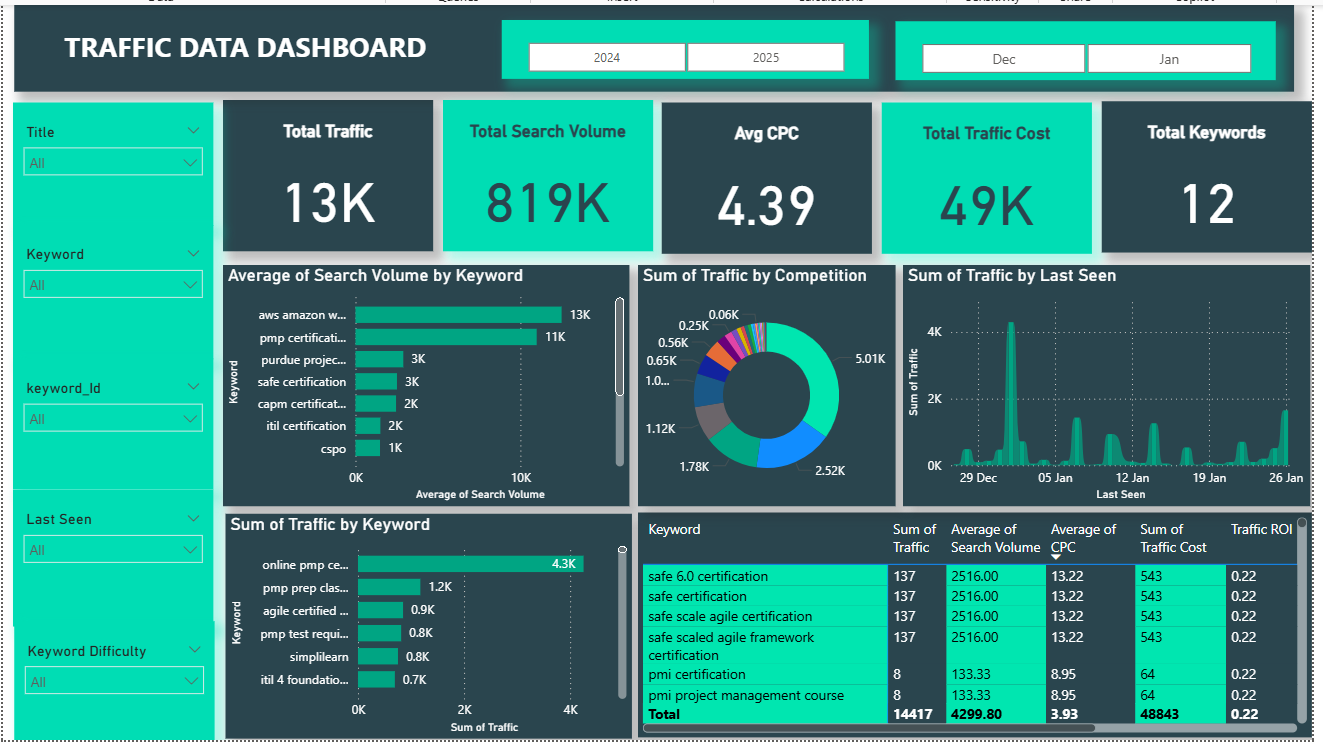

The page's visual inventory and layout, read from the dashboard file:
{"tool":"powerbi","page":{"name":"Page 1","canvas":[1280,720],"ordinal":0},"visuals":[{"type":"card","title":"Total Traffic","fields":{"Values":["Measures_Table.Total Traffic"]},"box":[215.2,92.9,205.4,148],"z":0},{"type":"textbox","box":[11.6,0,1252,84.8],"z":1000},{"type":"card","title":"Total Search Volume","fields":{"Values":["Measures_Table.Total Search Volume"]},"box":[430.4,92.9,205.4,148],"z":2000},{"type":"card","title":"Avg CPC","fields":{"Values":["Measures_Table.Avg CPC"]},"box":[644.4,95.4,205.4,148],"z":3000},{"type":"card","title":"Total Traffic Cost","fields":{"Values":["Sum(traffic_data_adwords traffic_data.Traffic Cost)"]},"box":[859.7,95.4,205.4,148],"z":4000},{"type":"card","title":"Total Keywords","fields":{"Values":["Measures_Table.Total Keywords"]},"box":[1074.6,94.2,205.4,148],"z":5000},{"type":"slicer","title":"Avg Traffic Cost","fields":{"Values":["traffic_data_adwords traffic_data.Title"]},"box":[9.8,95.4,195.7,121.1],"z":6000},{"type":"slicer","title":"YoY Growth %","fields":{"Values":["Date Table.Year"]},"box":[487.9,14.7,359.5,57.5],"z":7000},{"type":"slicer","title":"YoY Growth %","fields":{"Values":["Date Table.Month"]},"box":[873.1,15.9,371.7,57.5],"z":8000},{"type":"slicer","title":"Avg Traffic Cost","fields":{"Values":["traffic_data_adwords traffic_data.Keyword"]},"box":[9.8,215.2,195.7,130.8],"z":9000},{"type":"slicer","title":"Avg Traffic Cost","fields":{"Values":["traffic_data_adwords traffic_data.keyword_Id"]},"box":[9.8,346.1,195.7,128.4],"z":10000},{"type":"slicer","title":"Avg Traffic Cost","fields":{"Values":["traffic_data_adwords traffic_data.Last Seen"]},"box":[9.8,474.5,195.7,133.3],"z":11000},{"type":"slicer","title":"Avg Traffic Cost","fields":{"Values":["traffic_data_adwords traffic_data.Keyword Difficulty"]},"box":[11,602.6,195.7,117.4],"z":12000},{"type":"clusteredBarChart","fields":{"Category":["traffic_data_adwords keyword_lookup.Keyword"],"Y":["Avg(traffic_data_adwords traffic_data.Search Volume)"]},"box":[215.2,254.3,397.4,236],"z":13000},{"type":"clusteredBarChart","fields":{"Category":["traffic_data_adwords traffic_data.Keyword"],"Y":["Sum(traffic_data_adwords traffic_data.Traffic)"]},"box":[217.7,497.7,397.4,220.1],"z":14000},{"type":"pivotTable","fields":{"Values":["Sum(traffic_data_adwords traffic_data.Traffic)","Avg(traffic_data_adwords traffic_data.Search Volume)","Avg(traffic_data_adwords traffic_data.CPC)","Sum(traffic_data_adwords traffic_data.Traffic Cost)","Measures_Table.Traffic ROI"],"Rows":["traffic_data_adwords main_table.Keyword"]},"box":[620.9,496.5,659.1,220.1],"z":15000},{"type":"donutChart","fields":{"Category":["traffic_data_adwords traffic_data.Competition"],"Y":["Sum(traffic_data_adwords traffic_data.Traffic)"]},"box":[621.2,254.3,251.9,236],"z":16000},{"type":"ribbonChart","fields":{"Category":["traffic_data_adwords traffic_data.Last Seen"],"Y":["Sum(traffic_data_adwords traffic_data.Traffic)"]},"box":[880.9,254.3,398.1,235.9],"z":17000}]}

Visuals, with their boxes in screenshot pixels (x1, y1, x2, y2):
"Total Traffic" card: [222, 98, 430, 248]
textbox: [15, 3, 1285, 89]
"Total Search Volume" card: [440, 98, 649, 248]
"Avg CPC" card: [657, 100, 866, 250]
"Total Traffic Cost" card: [876, 100, 1084, 250]
"Total Keywords" card: [1094, 99, 1302, 249]
"Avg Traffic Cost" slicer: [13, 100, 212, 223]
"YoY Growth %" slicer: [498, 18, 863, 77]
"YoY Growth %" slicer: [889, 20, 1266, 78]
"Avg Traffic Cost" slicer: [13, 222, 212, 354]
"Avg Traffic Cost" slicer: [13, 355, 212, 485]
"Avg Traffic Cost" slicer: [13, 485, 212, 620]
"Avg Traffic Cost" slicer: [15, 615, 213, 734]
clusteredBarChart - traffic_data_adwords keyword_lookup.Keyword x Avg(traffic_data_adwords traffic_data.Search Volume): [222, 261, 625, 501]
clusteredBarChart - traffic_data_adwords traffic_data.Keyword x Sum(traffic_data_adwords traffic_data.Traffic): [224, 508, 628, 732]
pivotTable - Sum(traffic_data_adwords traffic_data.Traffic) x Avg(traffic_data_adwords traffic_data.Search Volume): [633, 507, 1302, 731]
donutChart - traffic_data_adwords traffic_data.Competition x Sum(traffic_data_adwords traffic_data.Traffic): [634, 261, 889, 501]
ribbonChart - traffic_data_adwords traffic_data.Last Seen x Sum(traffic_data_adwords traffic_data.Traffic): [897, 261, 1301, 501]
